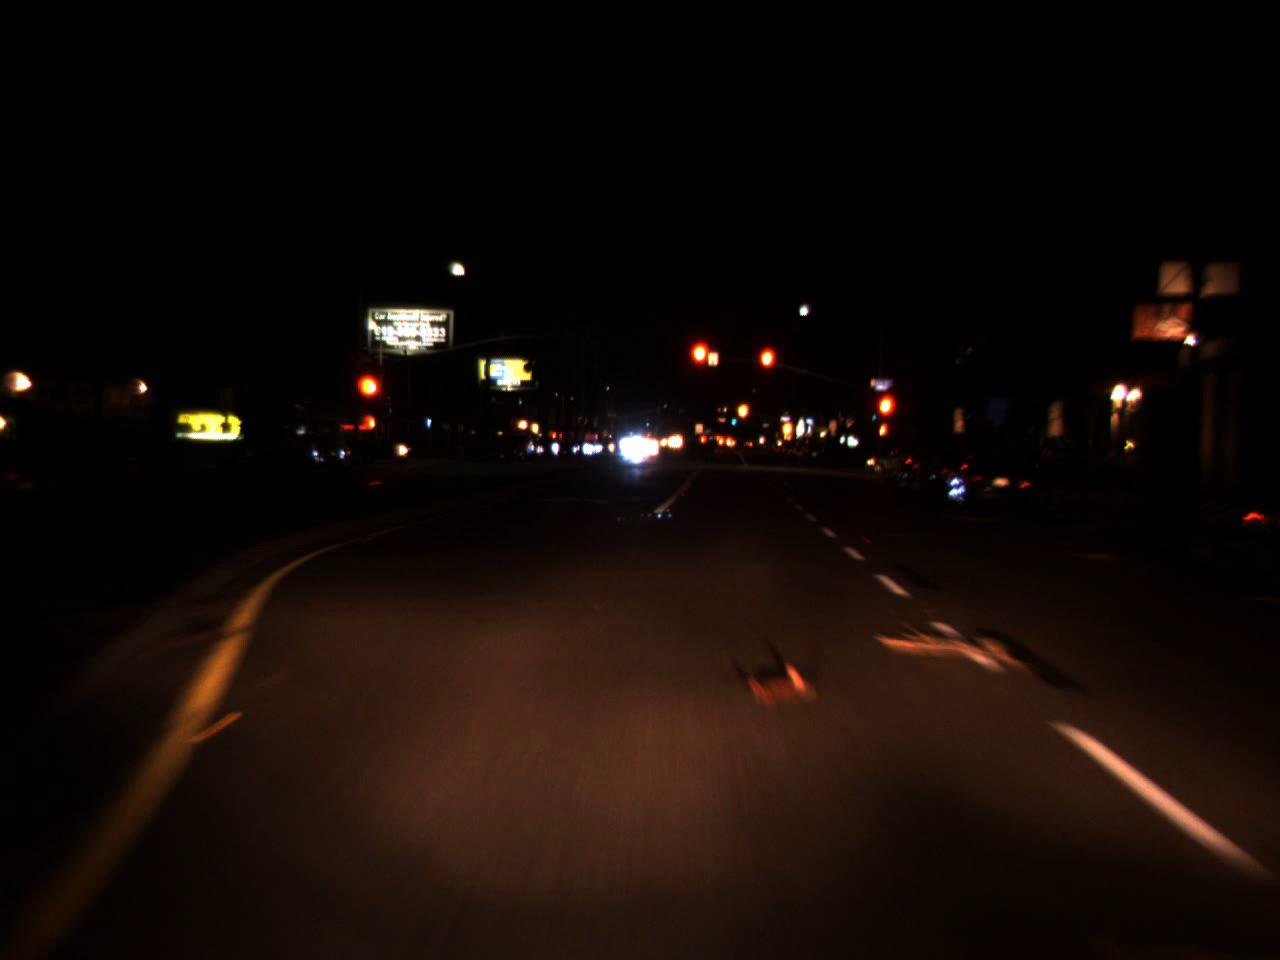go: (730, 412, 737, 424)
stop: (352, 371, 383, 425), (687, 338, 715, 392), (875, 391, 897, 445), (756, 345, 778, 390)
warning: (735, 392, 753, 427), (782, 414, 794, 439)
